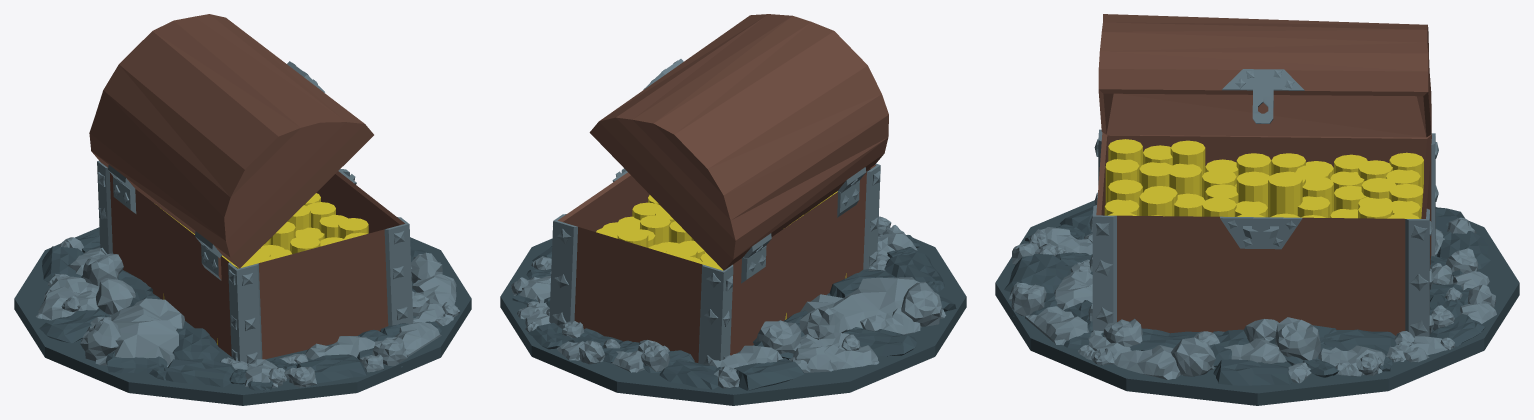
The picture shows the model from 3 angles, left to right: view 1: azimuth 30°, elevation 25°; view 2: azimuth 150°, elevation 25°; view 3: azimuth 270°, elevation 25°; orthographic projection. The views are drawn at different scales.
Parts seen in each view (by area): view 1: node_MeshObject1886133248-PolyPaper16, node_MeshObject-692596736-PolyPaper12, node_MeshObject-1836754944-PolyPaper20; view 2: node_MeshObject-692596736-PolyPaper12, node_MeshObject1886133248-PolyPaper16, node_MeshObject-1836754944-PolyPaper20; view 3: node_MeshObject1886133248-PolyPaper16, node_MeshObject-692596736-PolyPaper12, node_MeshObject-1836754944-PolyPaper20.
Part boxes in pixels (x1,y1,x2,y2): node_MeshObject1886133248-PolyPaper16: (36,161,460,390); node_MeshObject-692596736-PolyPaper12: (89,14,373,268); node_MeshObject-1836754944-PolyPaper20: (14,62,471,405); node_MeshObject-692596736-PolyPaper12: (589,14,888,270); node_MeshObject1886133248-PolyPaper16: (512,163,944,390); node_MeshObject-1836754944-PolyPaper20: (500,60,966,405); node_MeshObject1886133248-PolyPaper16: (1009,129,1490,385); node_MeshObject-692596736-PolyPaper12: (1098,14,1431,218); node_MeshObject-1836754944-PolyPaper20: (995,70,1519,405).
Size of the model in its own units: 1.51 by 0.8564 by 1.51.
